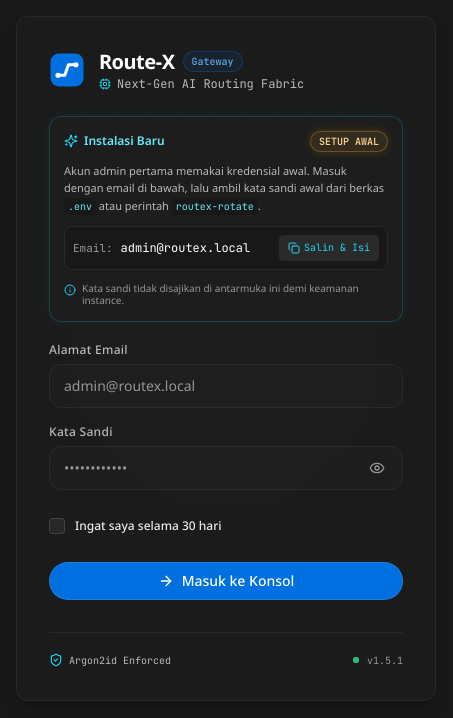
Test case: Login Page — Futuristic AI Gateway Portal › menampilkan kartu setup awal ketika terdapat default admin dan tombol salin mengisi form
Expected: the text "Setup Awal" is shown, [310, 130, 388, 152]
Expected: the field labelled "Alamat Email" is empty, [49, 364, 403, 408]
Click the button with aria-label "salin dan isi email otomatis": (329, 248) [279, 234, 379, 260]
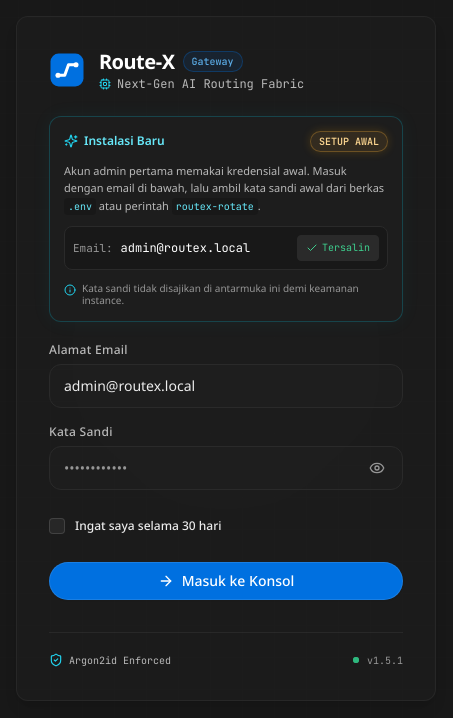
Expected: the field labelled "Alamat Email" holds "admin@routex.local", [49, 364, 403, 408]
